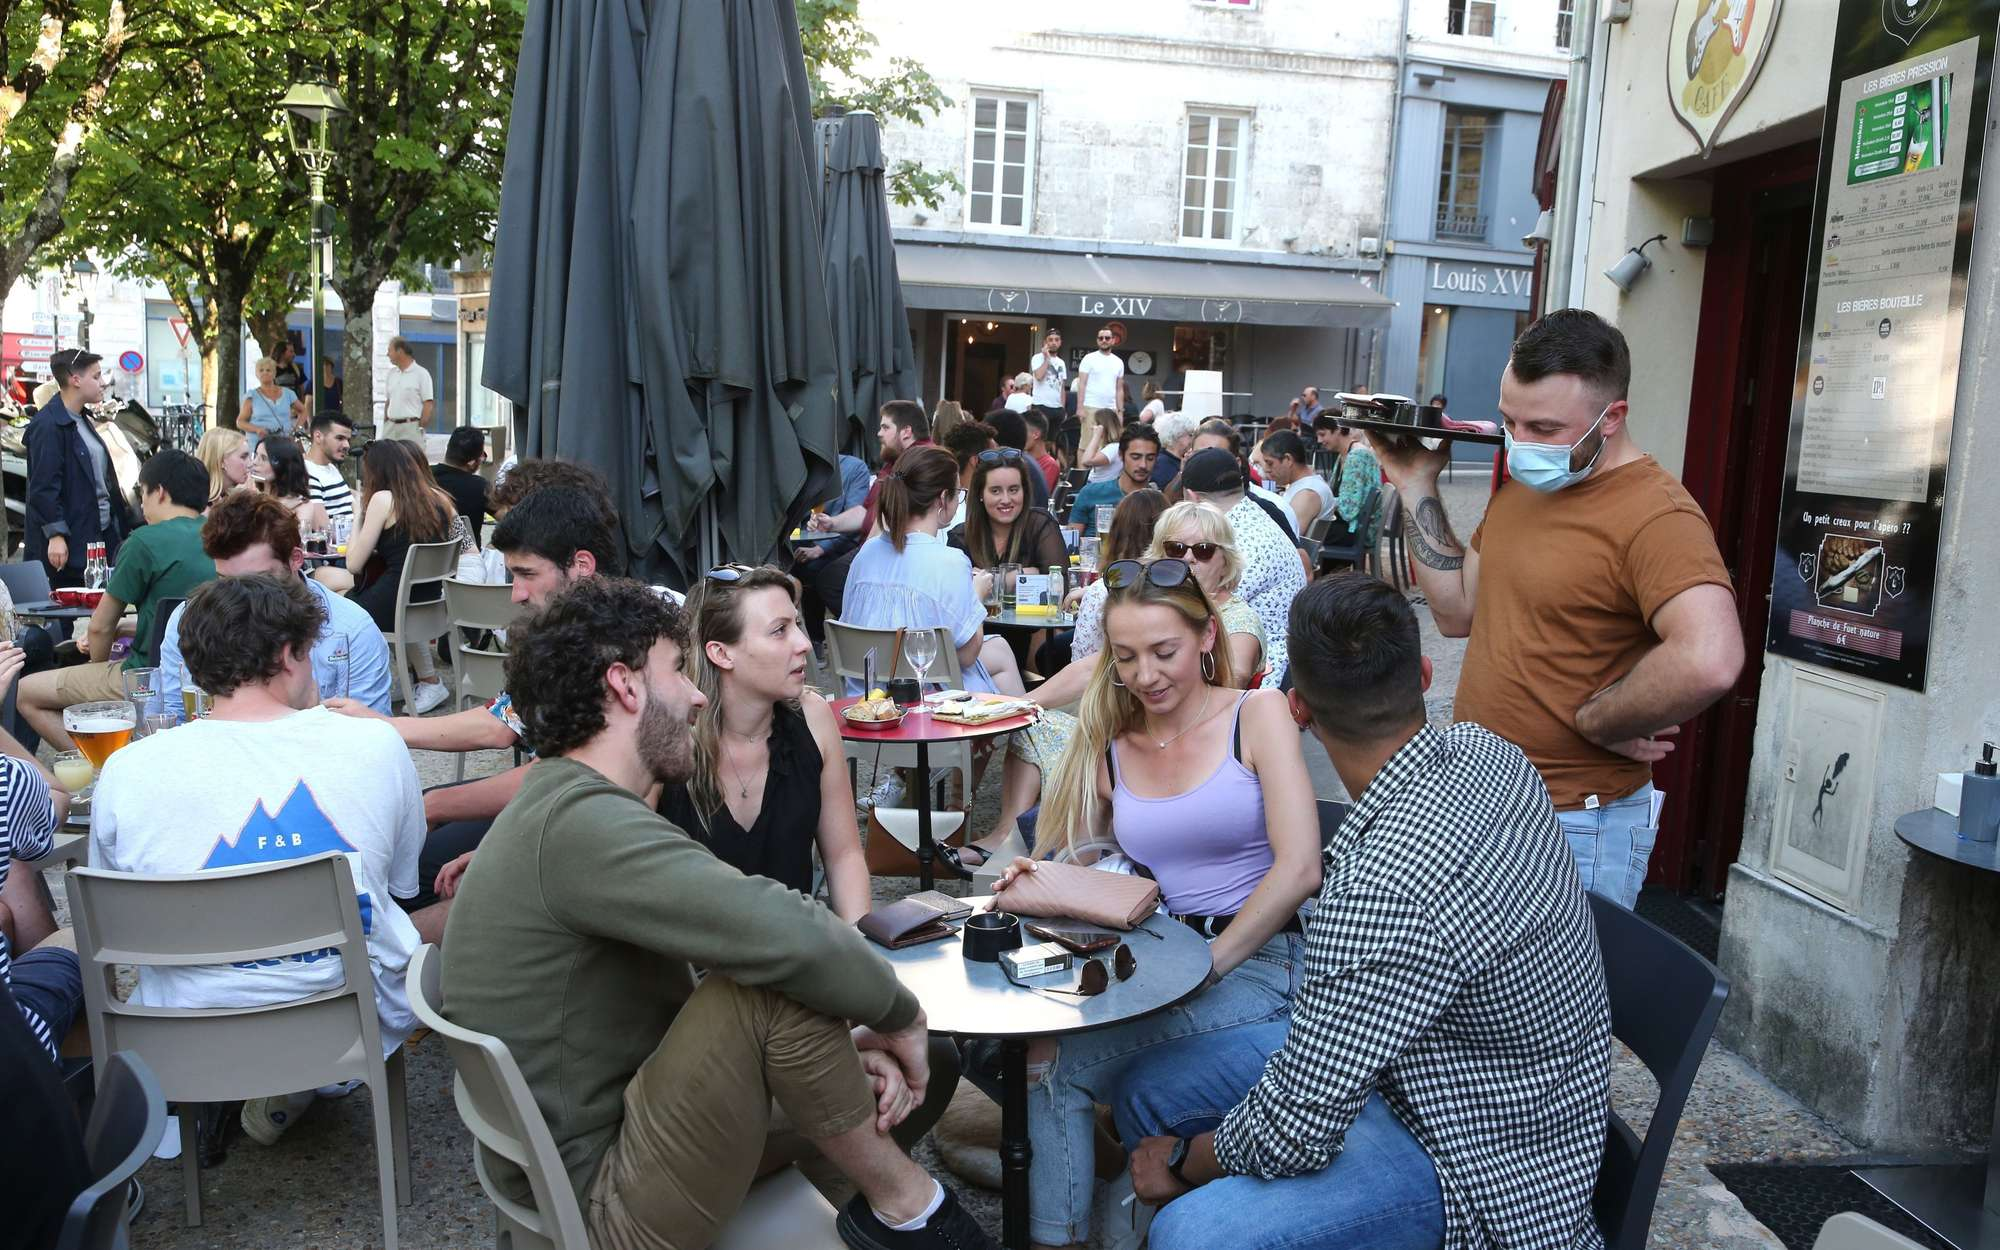with_mask: (1502, 376, 1602, 488)
without_mask: (634, 629, 706, 777), (1109, 617, 1202, 713), (746, 606, 809, 701), (513, 545, 570, 621), (1167, 518, 1223, 594), (987, 468, 1021, 518), (318, 416, 349, 465), (1127, 430, 1154, 485), (73, 365, 105, 406), (1265, 441, 1293, 488), (217, 441, 249, 481), (882, 412, 906, 450), (1317, 420, 1335, 450), (1095, 325, 1110, 346), (1050, 336, 1062, 352)
